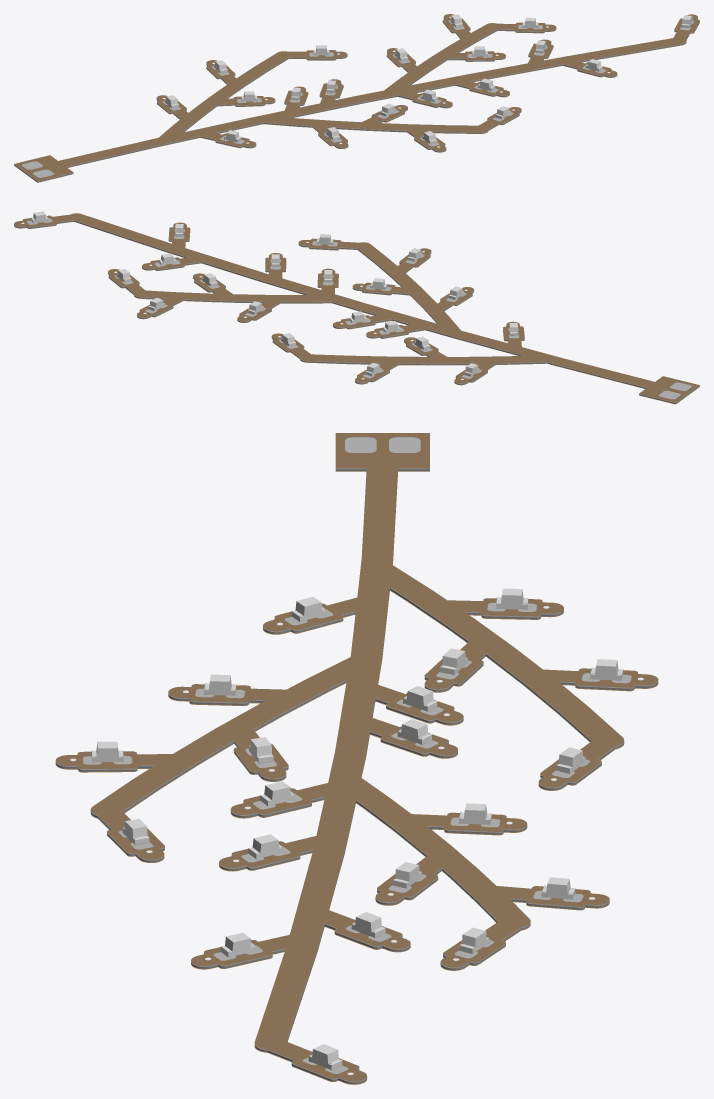
File: eclipse-sprig.glb
3 views of the same model, one above another, from view 1: azimuth 30°, elevation 25°; view 2: azimuth 150°, elevation 25°; view 3: azimuth 270°, elevation 25° (orthographic). The views are drawn at different scales.
Visible parts, largest first — view 1: =>[0:1:1:7], =>[0:1:1:9], =>[0:1:1:8], =>[0:1:1:4]; view 2: =>[0:1:1:7], =>[0:1:1:9], =>[0:1:1:8], =>[0:1:1:4]; view 3: =>[0:1:1:7], =>[0:1:1:9], =>[0:1:1:4], =>[0:1:1:8].
Part boxes in pixels (x1=…): =>[0:1:1:7]: x1=14, y1=14, x2=699, y2=180; =>[0:1:1:9]: x1=14, y1=17, x2=699, y2=182; =>[0:1:1:8]: x1=14, y1=22, x2=699, y2=182; =>[0:1:1:4]: x1=22, y1=20, x2=694, y2=177; =>[0:1:1:7]: x1=14, y1=213, x2=699, y2=402; =>[0:1:1:9]: x1=14, y1=218, x2=699, y2=403; =>[0:1:1:8]: x1=14, y1=221, x2=699, y2=404; =>[0:1:1:4]: x1=27, y1=218, x2=691, y2=399; =>[0:1:1:7]: x1=55, y1=433, x2=658, y2=1081; =>[0:1:1:9]: x1=55, y1=437, x2=658, y2=1083; =>[0:1:1:4]: x1=83, y1=437, x2=631, y2=1073; =>[0:1:1:8]: x1=55, y1=471, x2=657, y2=1084.
Bounding box in the file's own units: 0.0488 × 0.000655 × 0.0192.
